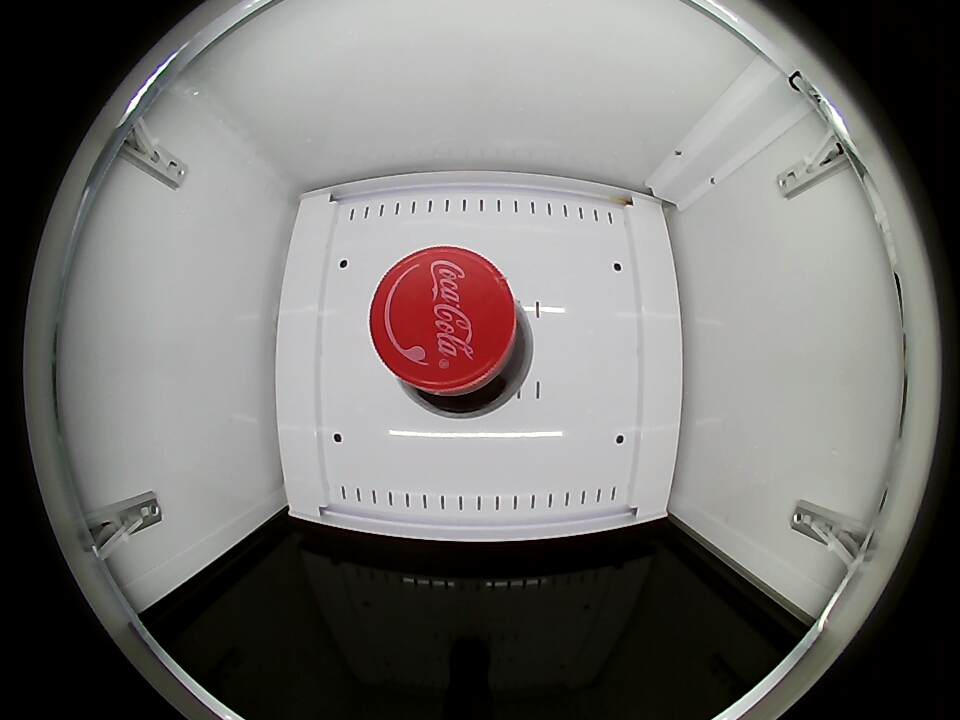kele-b: (370, 247, 530, 415)
